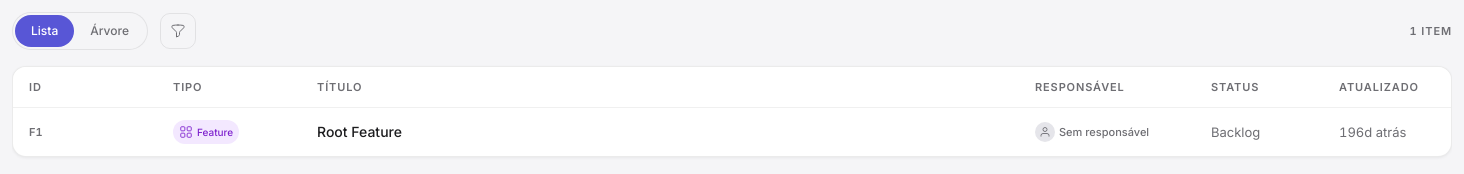
Scenario: ItemsListView › shows tree container when Árvore mode is selected
Click the button "Árvore" at (110, 31), box [74, 15, 145, 47]
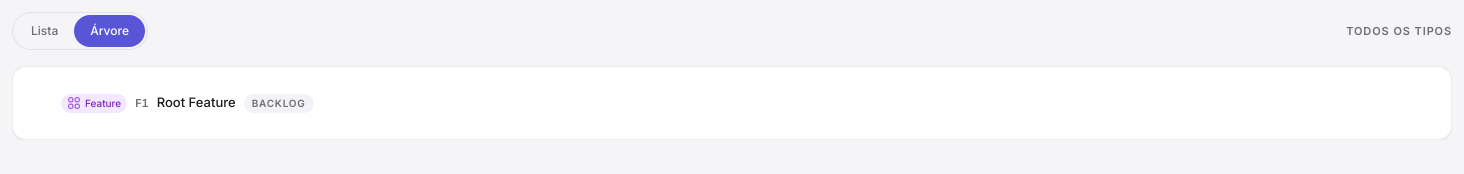
Result: the element with test id "items-tree-root" is shown at [12, 66, 1452, 140]
